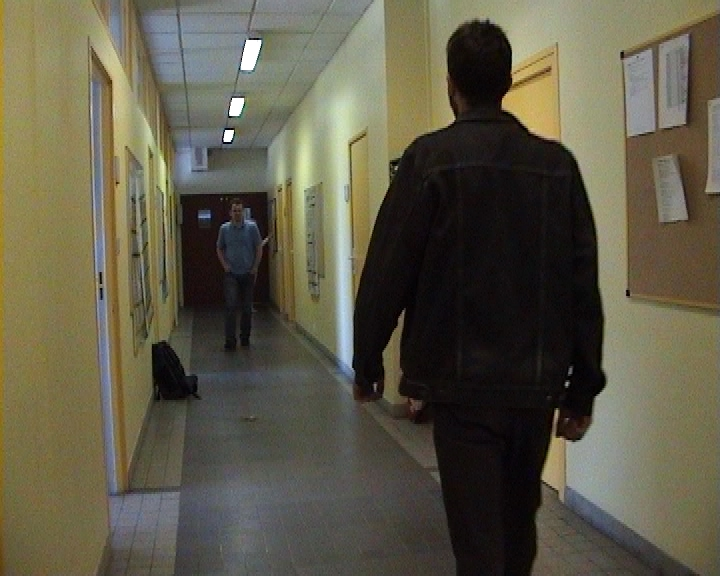leave bag unattended: (142, 331, 216, 420)
